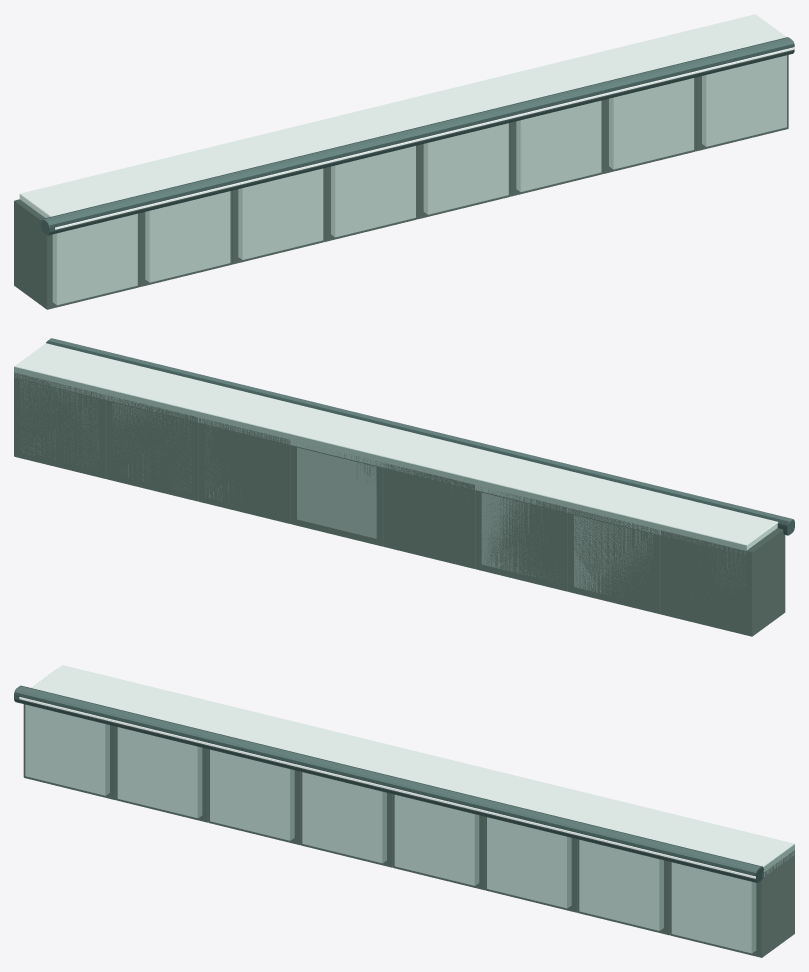
Rendered from Terrain_TopRun8L.gltf.
3 views of the same model, one above another, from view 1: azimuth 30°, elevation 25°; view 2: azimuth 150°, elevation 25°; view 3: azimuth 330°, elevation 25° (orthographic).
Parts seen in each view (by area): view 1: Terrain_TopRun8L_baked; view 2: Terrain_TopRun8L_baked; view 3: Terrain_TopRun8L_baked.
Part boxes in pixels (bbox=[...]): Terrain_TopRun8L_baked: bbox=[14, 14, 794, 309]; Terrain_TopRun8L_baked: bbox=[14, 338, 794, 636]; Terrain_TopRun8L_baked: bbox=[14, 665, 794, 957].
Bounding box in the file's own units: 8.04 × 0.9495 × 0.74.
